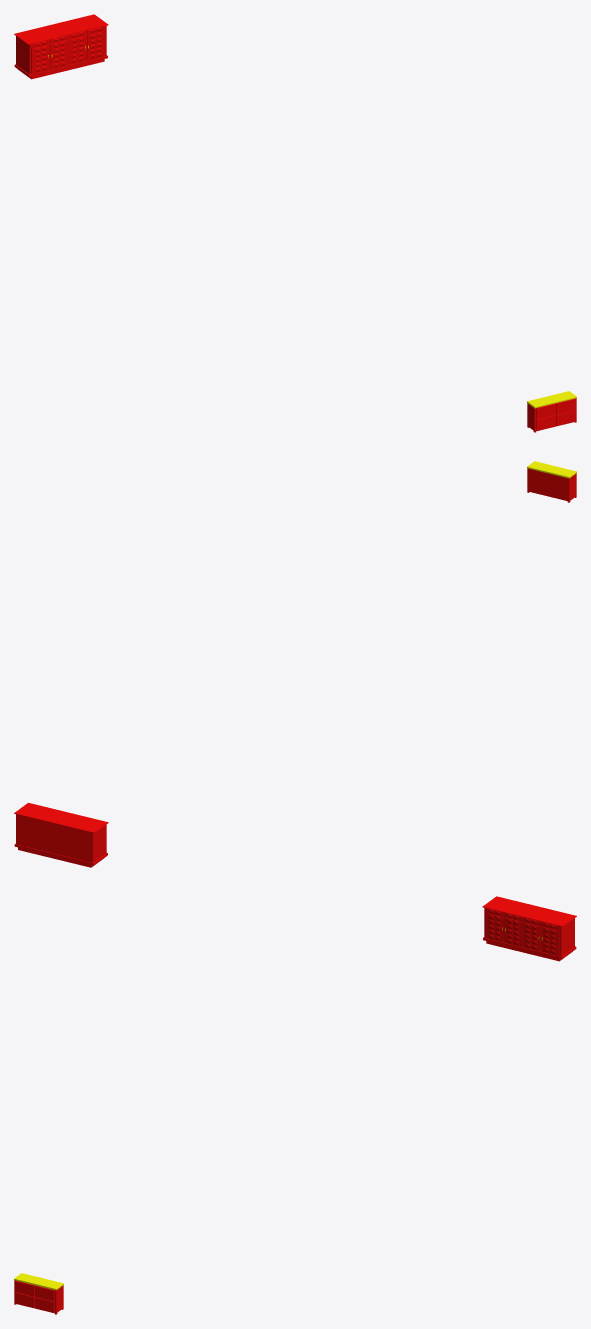
The model's file is test_dressers.fbx.
3 renders of one model, top to bottom at view 1: azimuth 30°, elevation 25°; view 2: azimuth 150°, elevation 25°; view 3: azimuth 330°, elevation 25°, orthographic.
Visible parts, largest first — view 1: dresser_217, dresser_205; view 2: dresser_217, dresser_205; view 3: dresser_217, dresser_205.
Boxes of the visible parts, x1=… form: dresser_217: x1=14, y1=14, x2=108, y2=79; dresser_205: x1=527, y1=391, x2=576, y2=432; dresser_217: x1=14, y1=803, x2=108, y2=867; dresser_205: x1=527, y1=461, x2=576, y2=502; dresser_217: x1=482, y1=896, x2=576, y2=961; dresser_205: x1=14, y1=1273, x2=63, y2=1314.
Size of the model in its own units: 227 by 98.16 by 2456.
